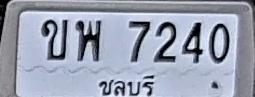0: (208, 22, 229, 63)
2: (154, 21, 176, 62)
4: (182, 21, 202, 63)
7: (128, 20, 150, 62)
A02: (41, 19, 68, 60)
A30: (76, 19, 102, 61)
CBI: (90, 73, 164, 97)
